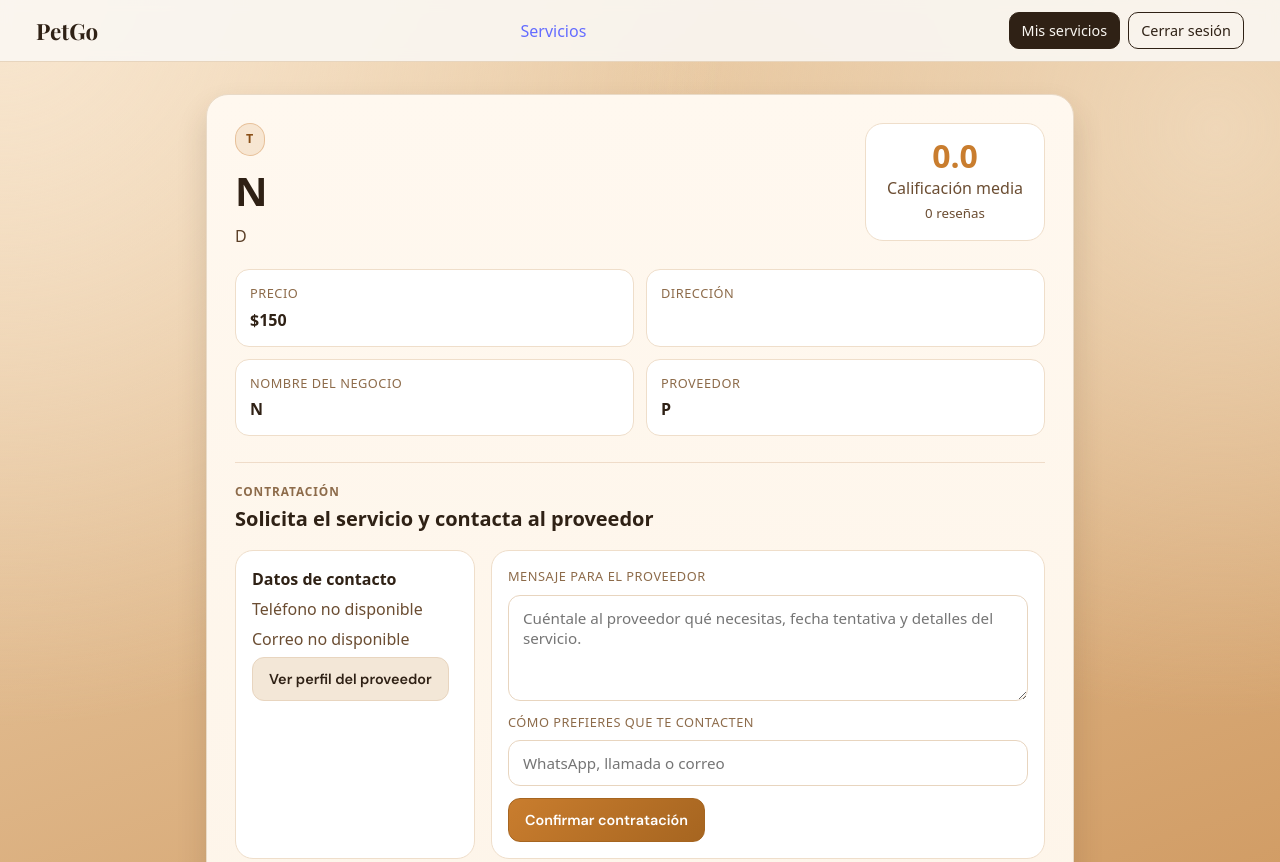
Test: ServiceDetail branches › can submit request when logged in
The width and height of the screenshot is (1280, 862).
Expected: the text "Mensaje para el proveedor" is shown, [508, 568, 706, 586]
Type "Necesito el servicio el lunes" into the text box with placeholder "Cuéntale al proveedor". click: (768, 648)
box: [508, 595, 1028, 701]
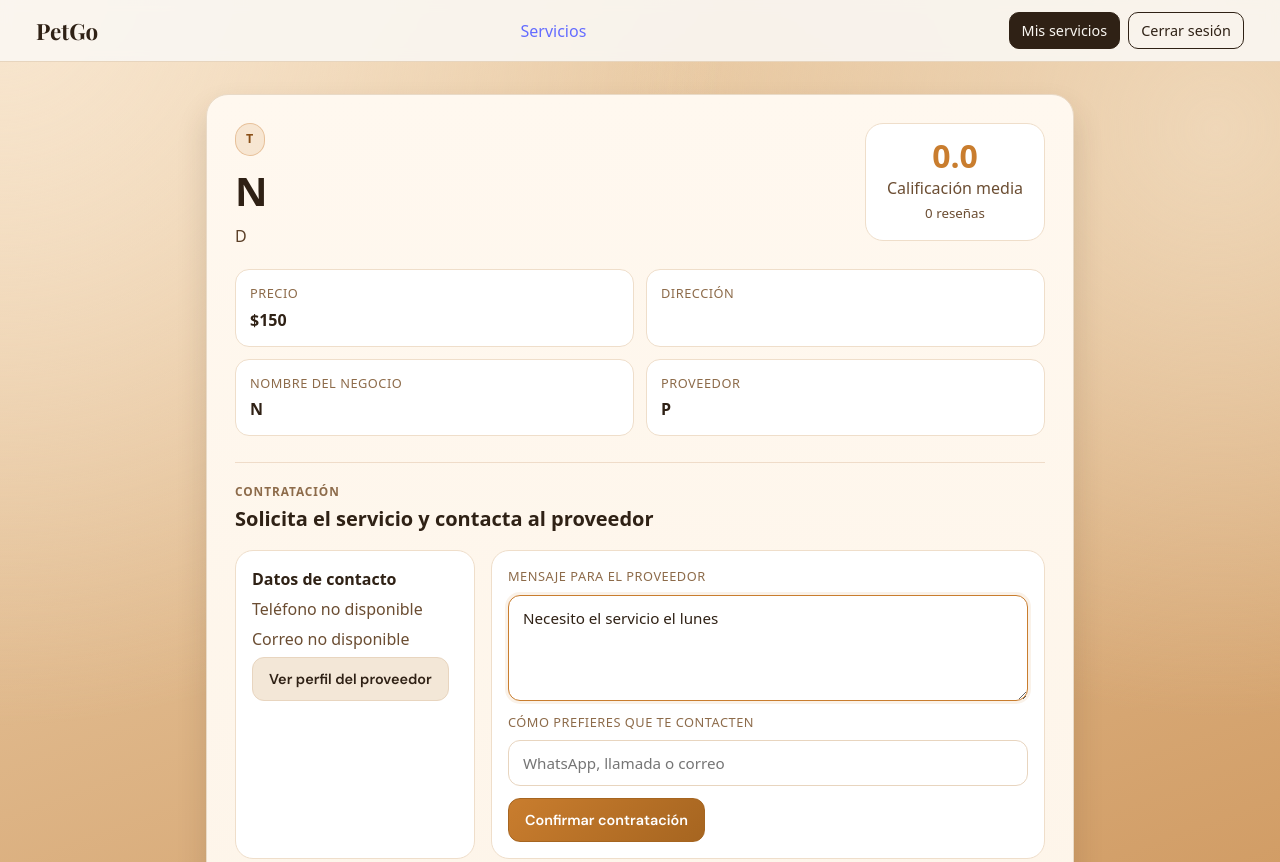
Type "WhatsApp" into the field with placeholder "WhatsApp, llamada o correo". click: (768, 763)
box: [508, 740, 1028, 786]
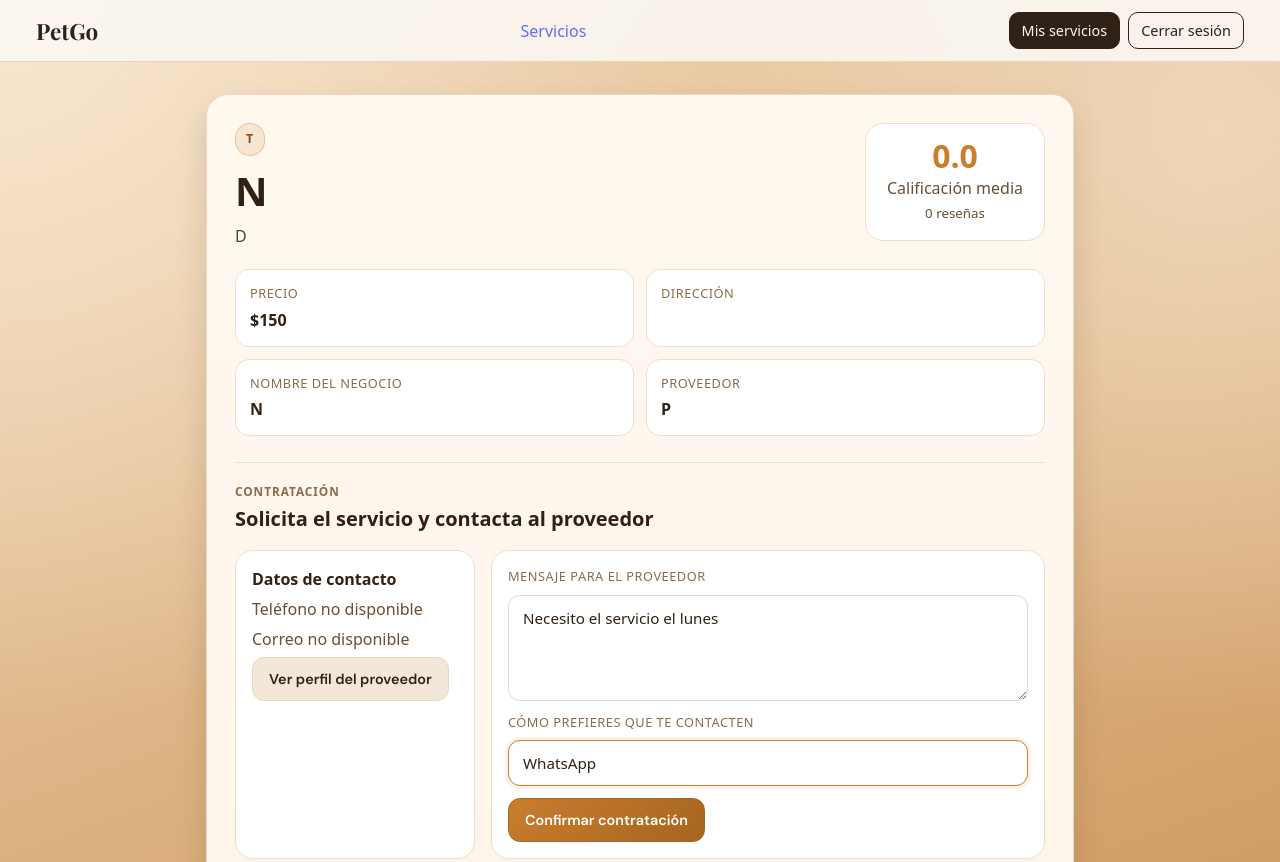
Click the button "Confirmar contratación". click: (606, 820)
box: [508, 798, 705, 842]
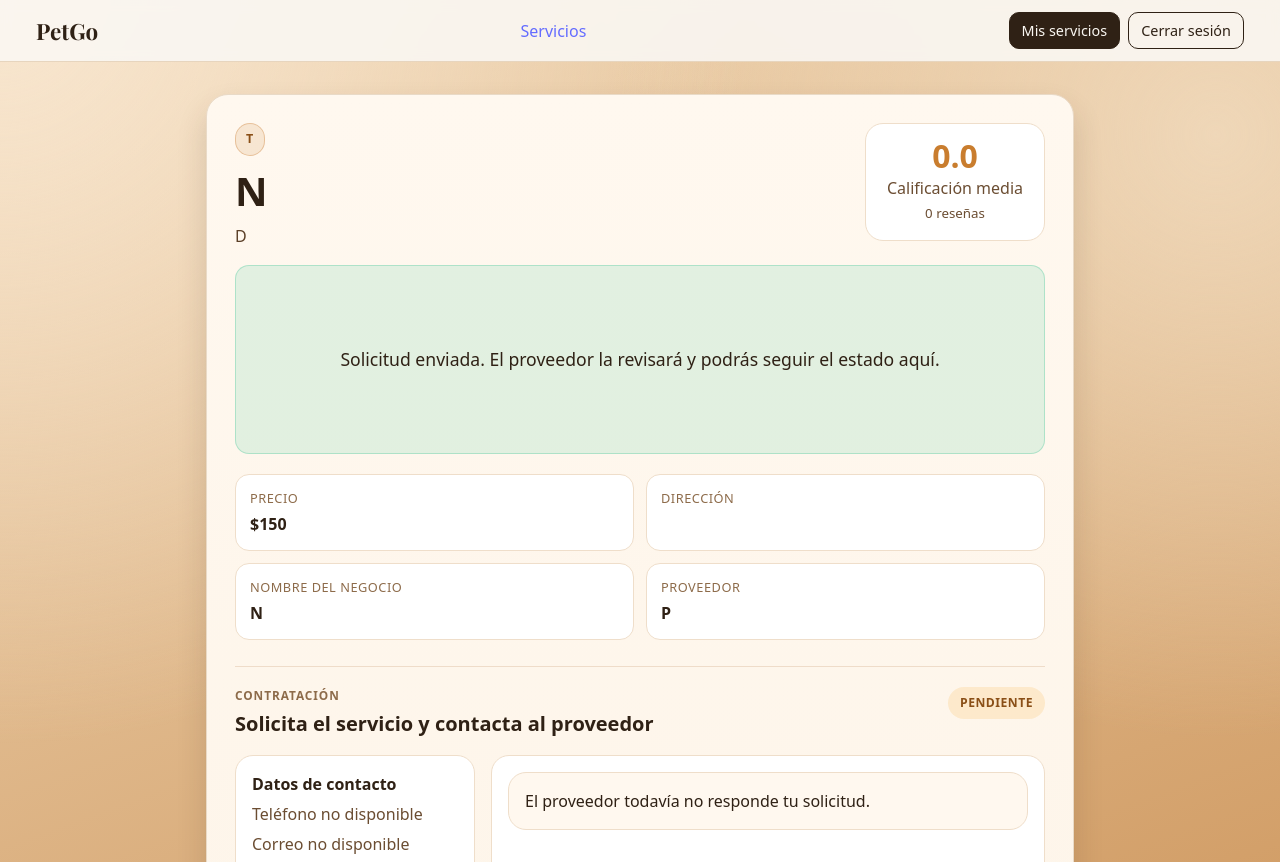
Now the text "Solicitud enviada" is shown, box [340, 347, 940, 371]
